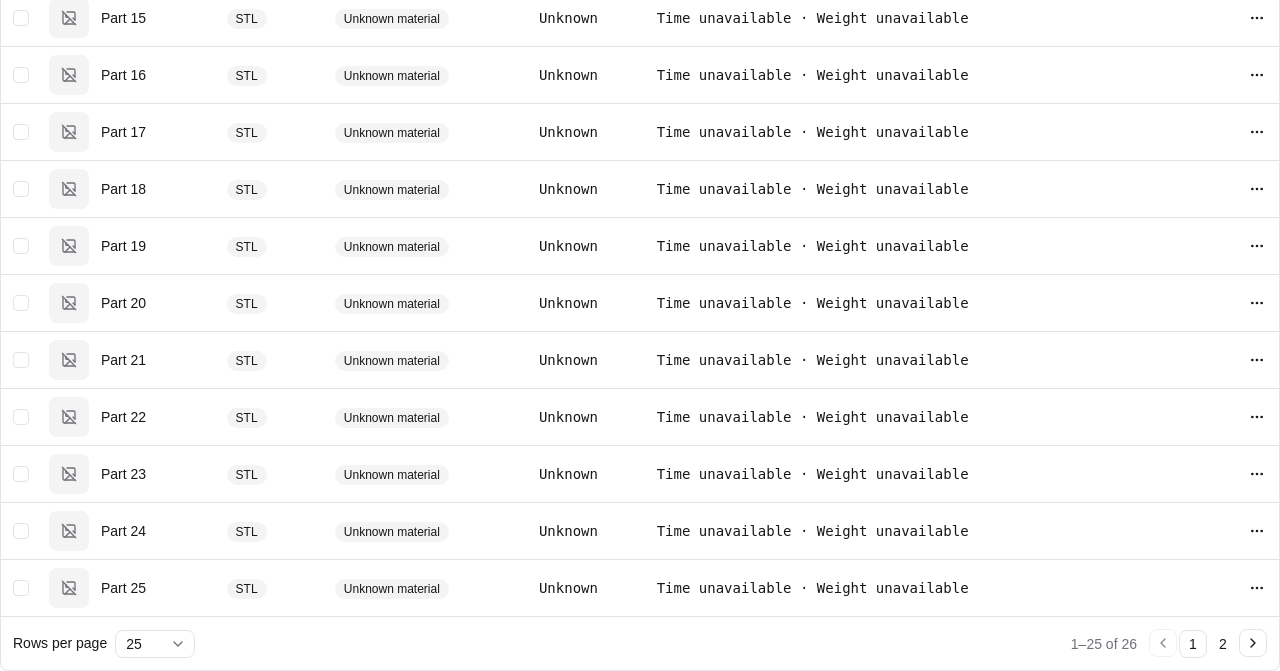
Test case: PartsPage › returns to the previous page after removing its final part
(page scrolled)
Expected: the text "1–25 of 26" is shown, [1071, 634, 1137, 654]
Click the button named "Next parts page" at (1253, 643), box [1239, 629, 1267, 657]
(page scrolled)
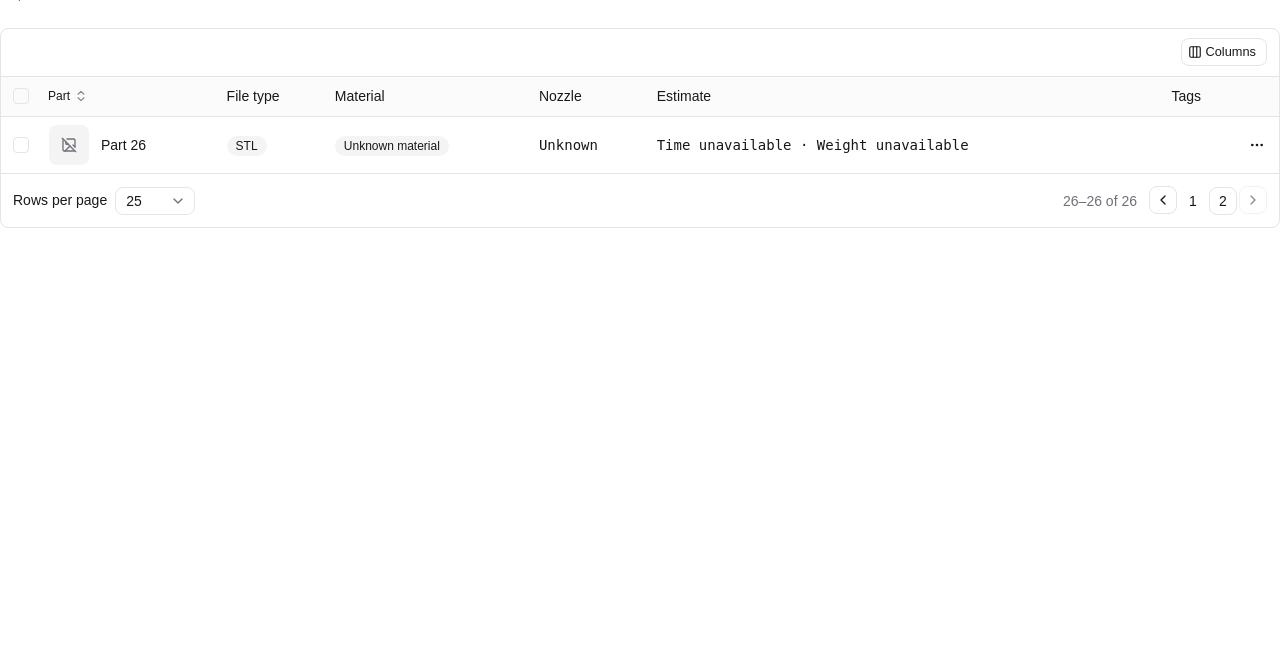
Result: the link "Part 26" is shown at [101, 135, 146, 155]
Click the button named "Actions for Part 26" at (1257, 145), box [1243, 131, 1271, 159]
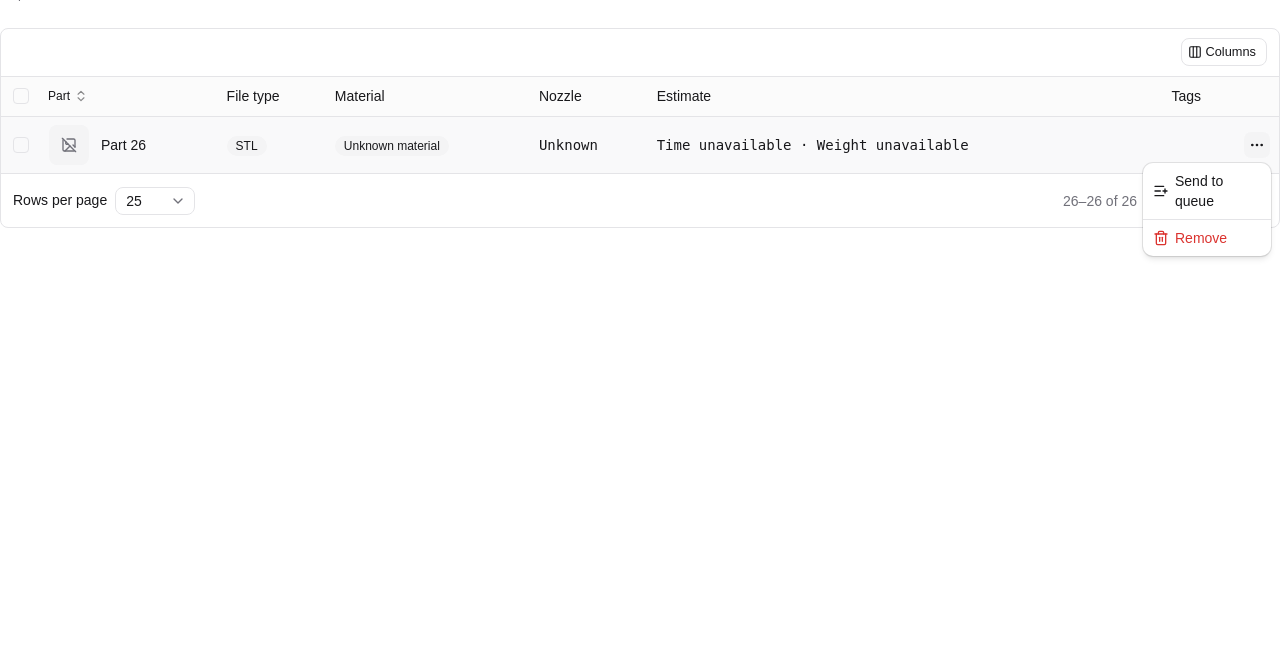
Click the menu item "Remove" at (1190, 238), box [1153, 230, 1227, 246]
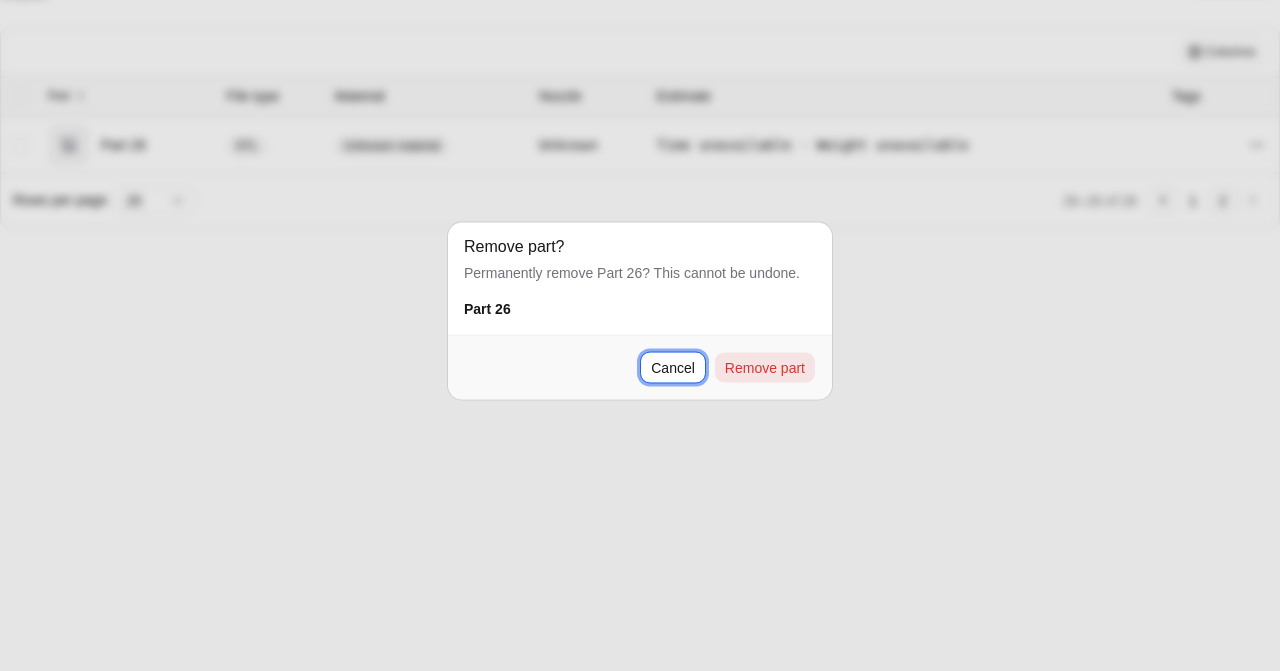
Click the button "Remove part" at (765, 368), box [714, 352, 816, 384]
(page scrolled)
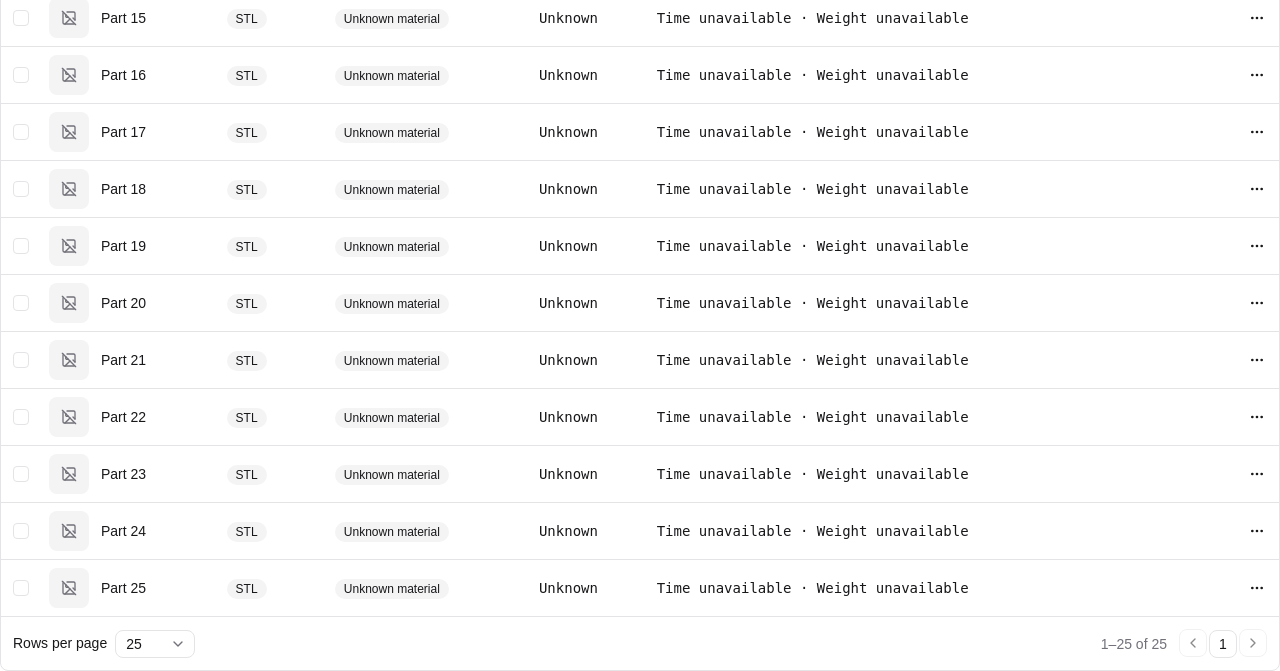
Expected: the button named "Page 1" is shown, [1209, 630, 1237, 658]
Result: the text "1–25 of 25" is shown at [1101, 634, 1167, 654]
Result: the link "Part 26" is gone
